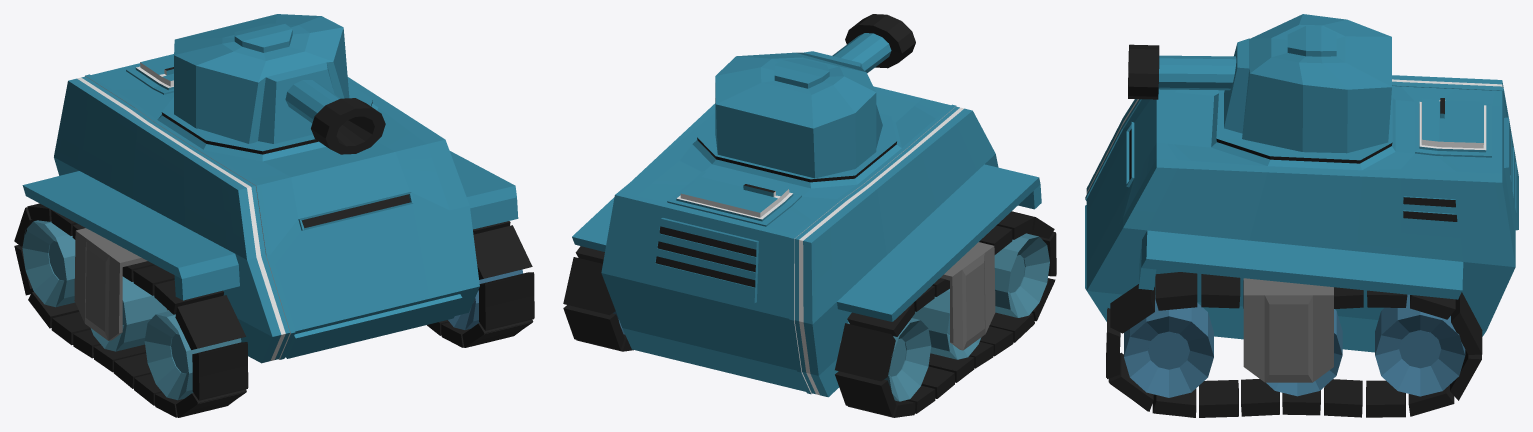
Rendered from tank3(material).fbx.
3 renders of one model, left to right at view 1: azimuth 30°, elevation 25°; view 2: azimuth 150°, elevation 25°; view 3: azimuth 270°, elevation 25°, orthographic. The views are drawn at different scales.
Visible parts, largest first — view 1: Awake, Ndase, Cylinder.001, Cube.000, Cube.001, Cylinder; view 2: Awake, Ndase, Cylinder.001, Cube.000, Cube.001; view 3: Awake, Ndase, Cylinder, Cube.001.
Part boxes in pixels (x1,y1,x2,y2): Awake: [22, 54, 518, 363]; Ndase: [174, 14, 385, 154]; Cylinder.001: [22, 220, 241, 400]; Cube.000: [14, 203, 248, 417]; Cube.001: [427, 221, 534, 347]; Cylinder: [448, 269, 522, 329]; Awake: [572, 86, 1041, 397]; Ndase: [715, 14, 915, 178]; Cylinder.001: [839, 233, 1049, 401]; Cube.000: [835, 211, 1056, 417]; Cube.001: [563, 246, 633, 351]; Awake: [1085, 75, 1518, 352]; Ndase: [1128, 14, 1391, 153]; Cylinder: [1124, 278, 1465, 397]; Cube.001: [1106, 272, 1482, 417].
Bounding box in the file's own units: 924 × 724 × 962.
